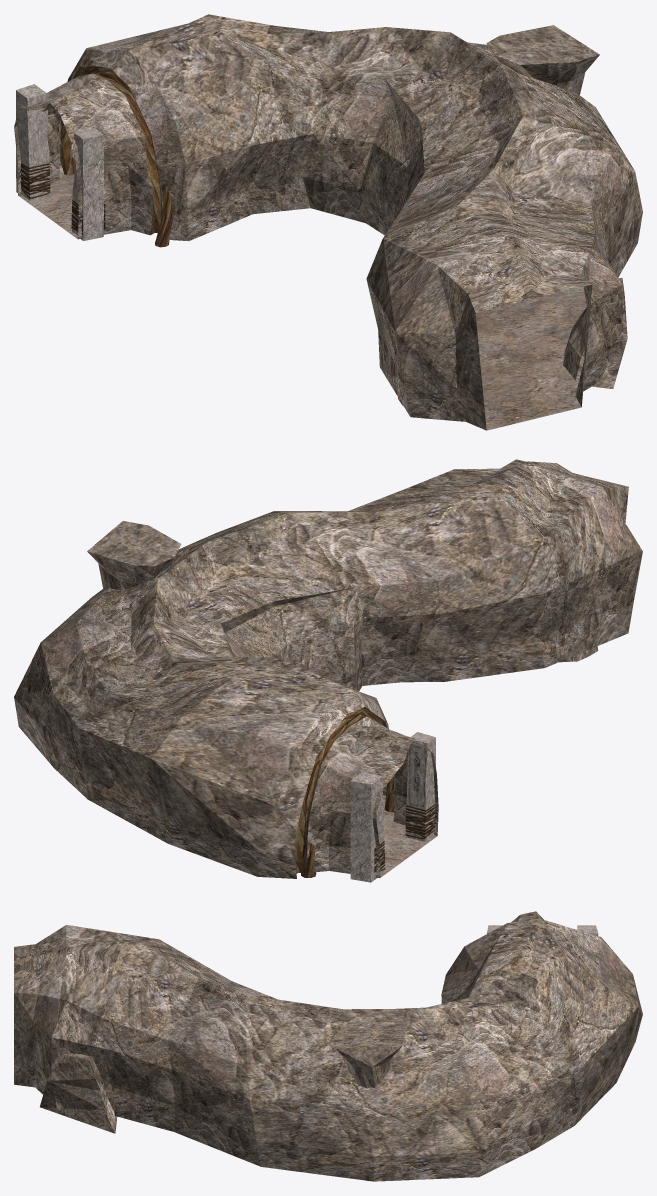
Rendered from thm_dath_mtn_clan_stronghold_r1_hallway_mesh_r1.fbx.
3 views of the same model, one above another, from view 1: azimuth 30°, elevation 25°; view 2: azimuth 150°, elevation 25°; view 3: azimuth 270°, elevation 25° (orthographic). The views are drawn at different scales.
Parts seen in each view (by area): view 1: mesh_node; view 2: mesh_node; view 3: mesh_node.
Part boxes in pixels (box(x1,y1,x2,y2)): mesh_node: box(14, 14, 642, 430); mesh_node: box(14, 459, 642, 882); mesh_node: box(14, 911, 642, 1181).
Size of the model in its own units: 14.43 by 5.03 by 21.53.
